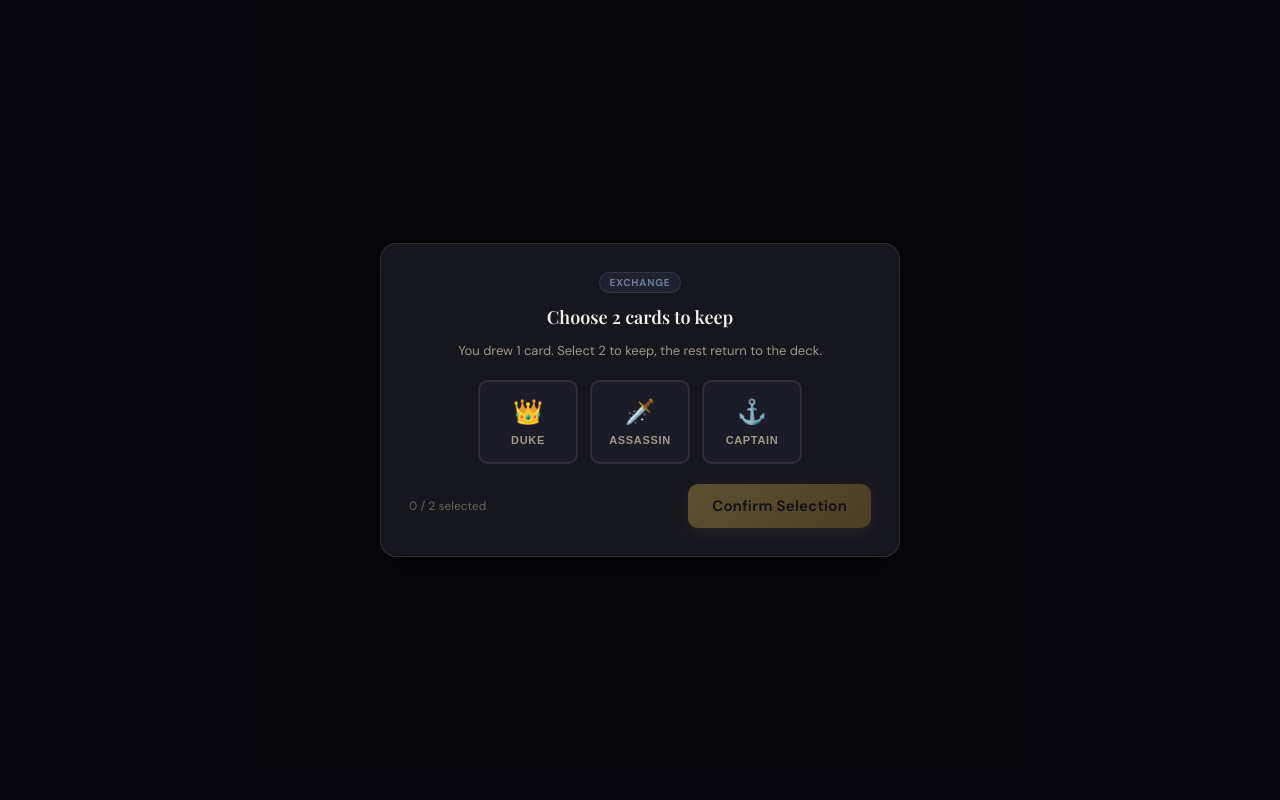
Test: ExchangeModal component @unit › prevents selecting more cards than currentCardCount
Click the text "DUKE" at (528, 440), box [511,434,545,446]
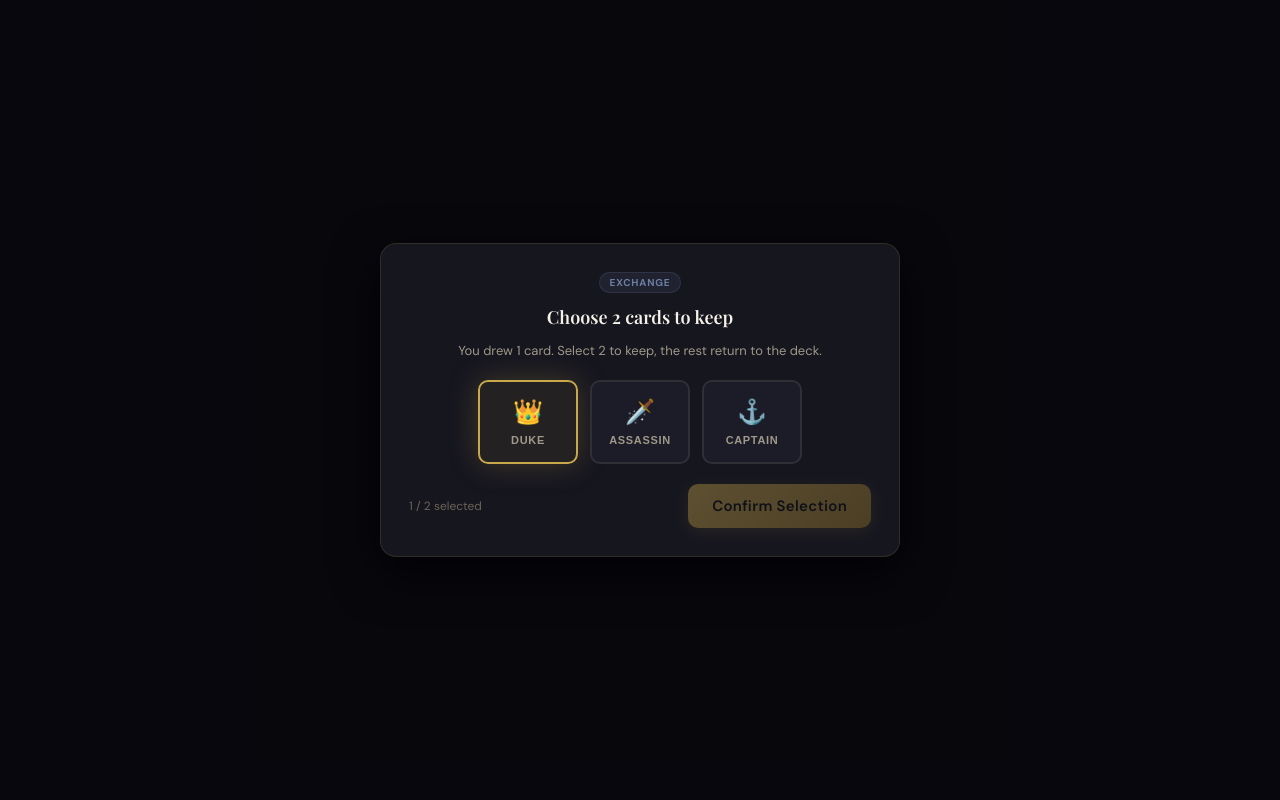
Click the text "ASSASSIN" at (640, 440), box [609,434,671,446]
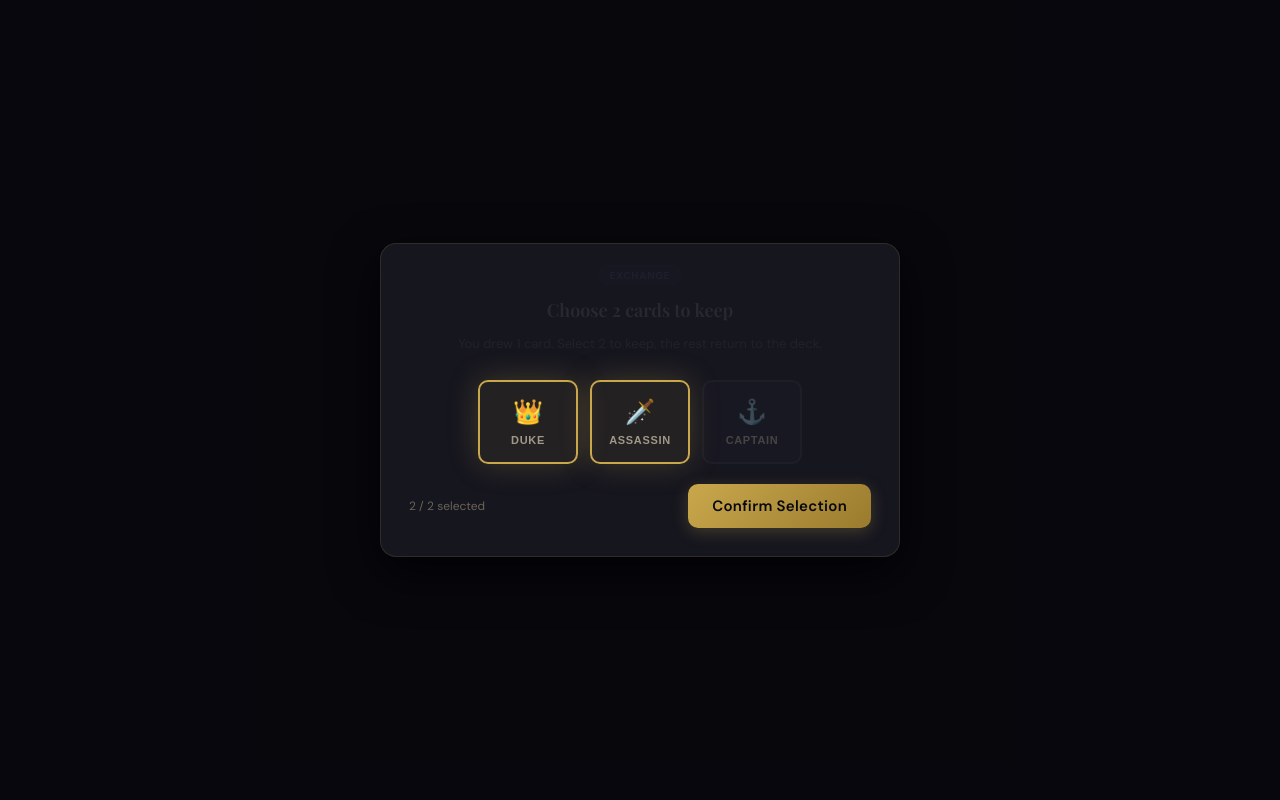
Now the button "⚓ CAPTAIN" is disabled, box [702,380,802,464]
